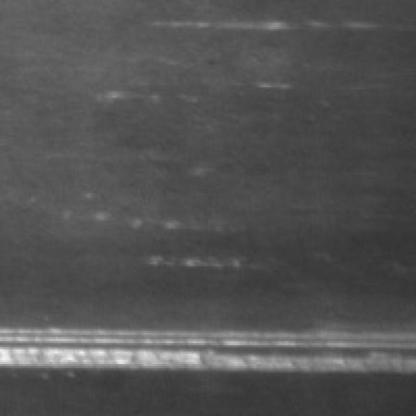scratches: (0, 312, 412, 372)
